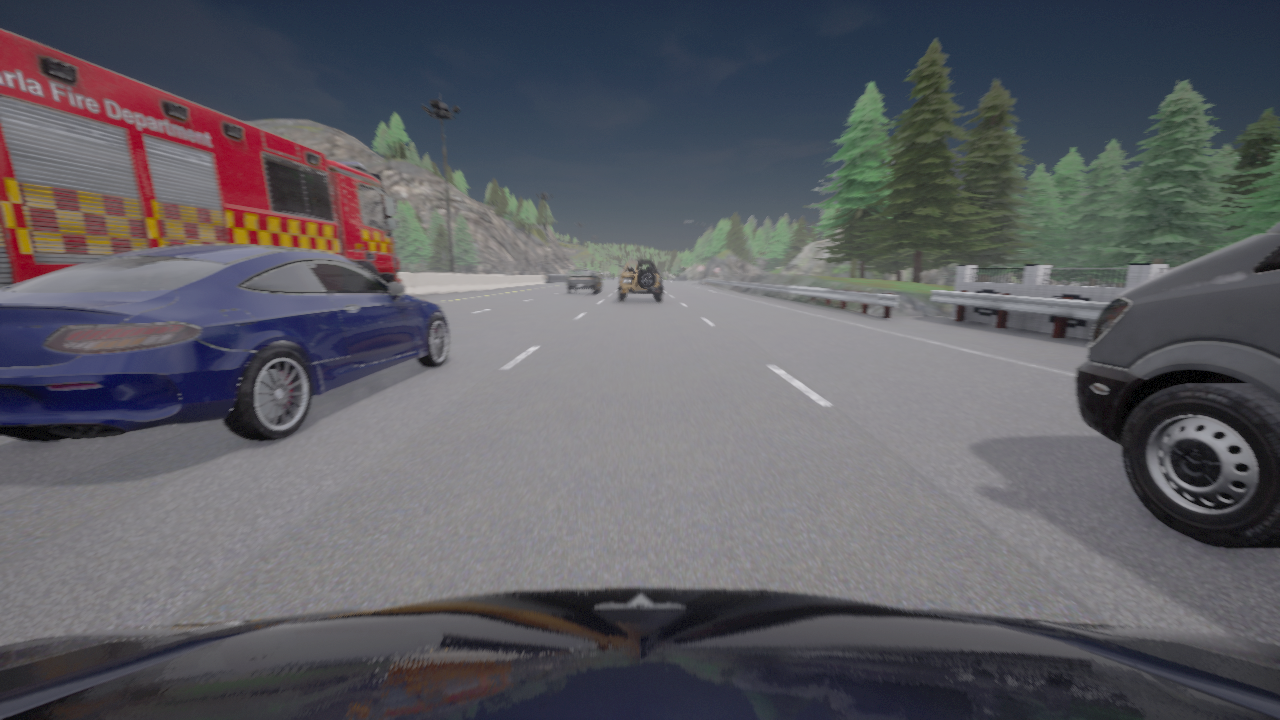cyclist: (0, 588, 1279, 719), (0, 245, 449, 441), (1075, 222, 1279, 548), (618, 260, 661, 301), (566, 269, 601, 294)
